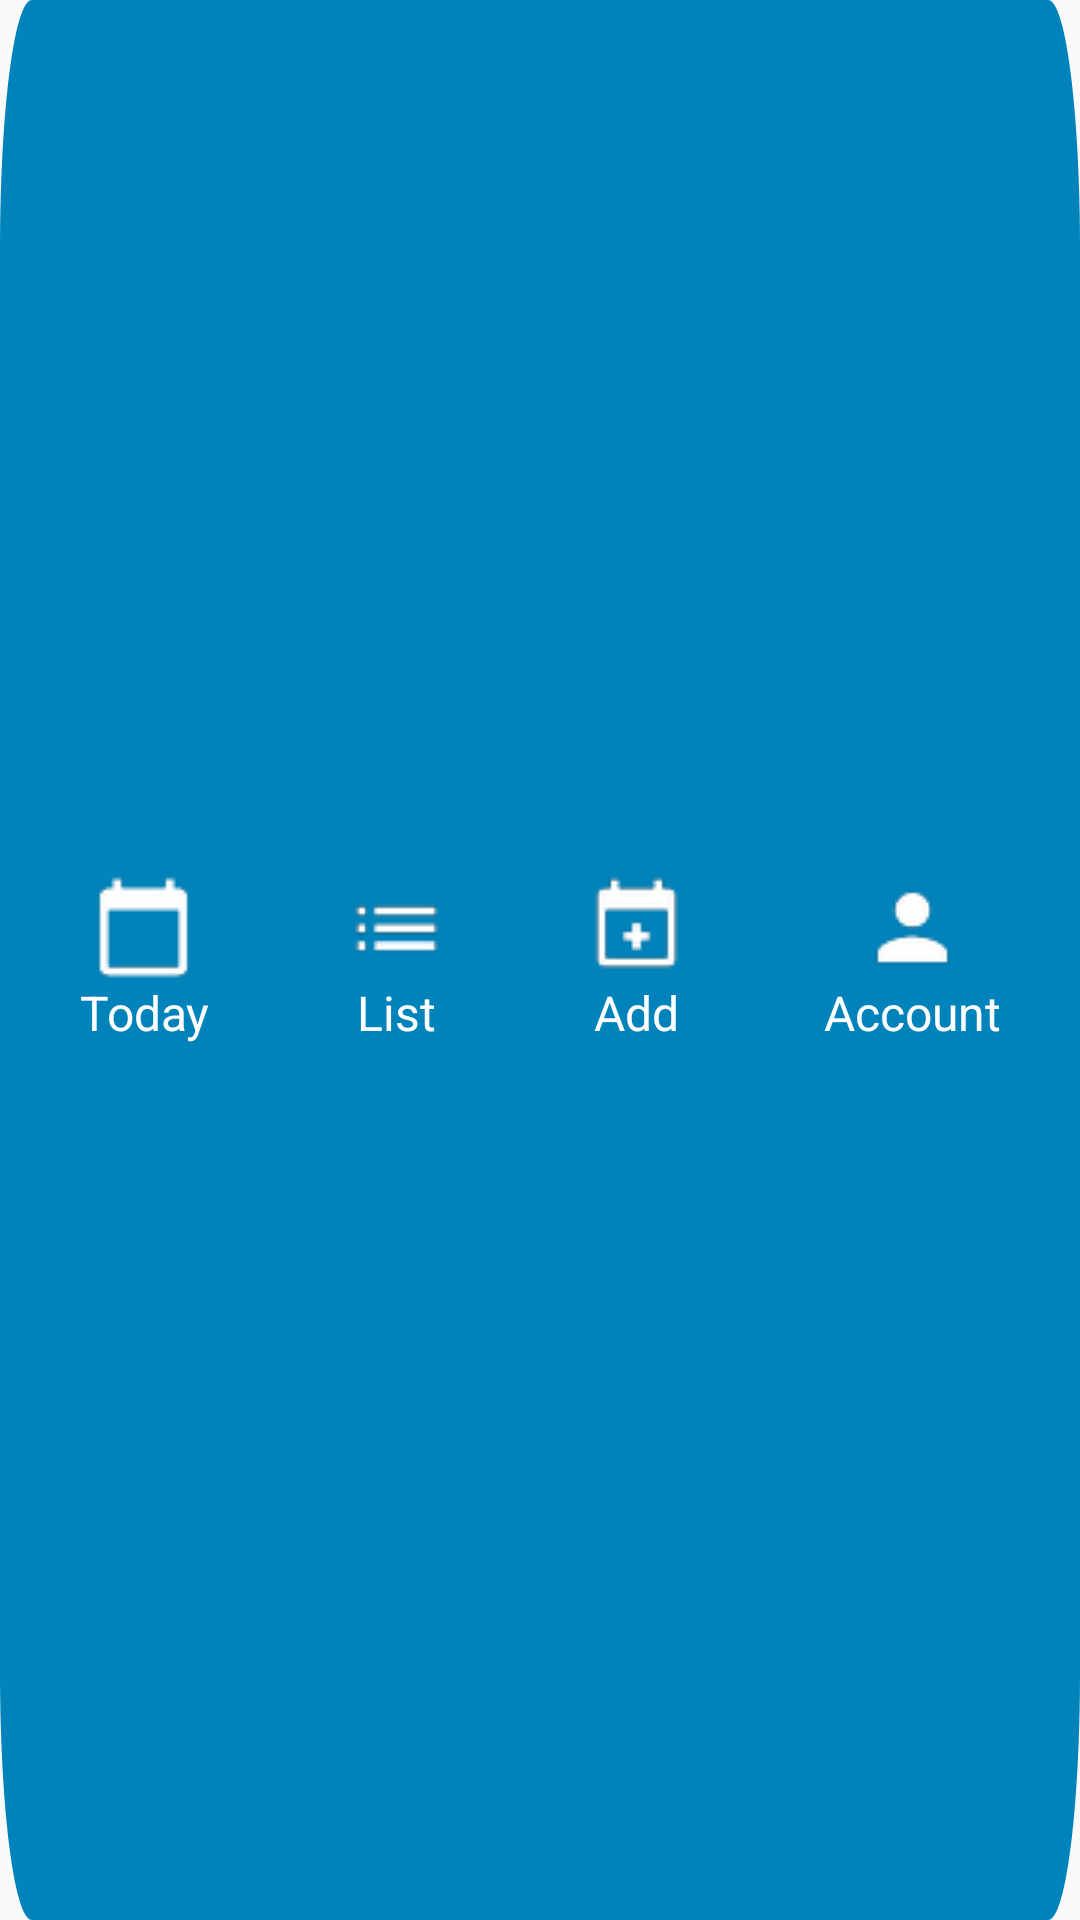

Icons on this 1080w x 1920h Android screen, each with the point to tap as (x=x, y=y):
options calendar: (x=143, y=927)
